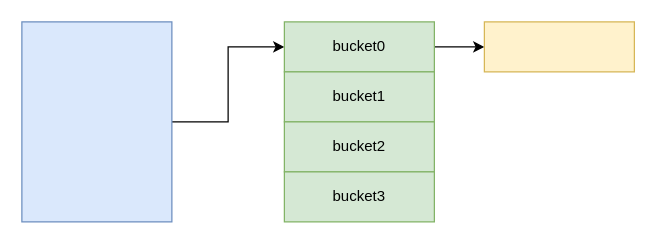
This 656x244 diagram has some shape labels left out. Each missing label, with the box of its shape:
hmap: (21, 21, 172, 222)
overflow0: (483, 21, 634, 72)
